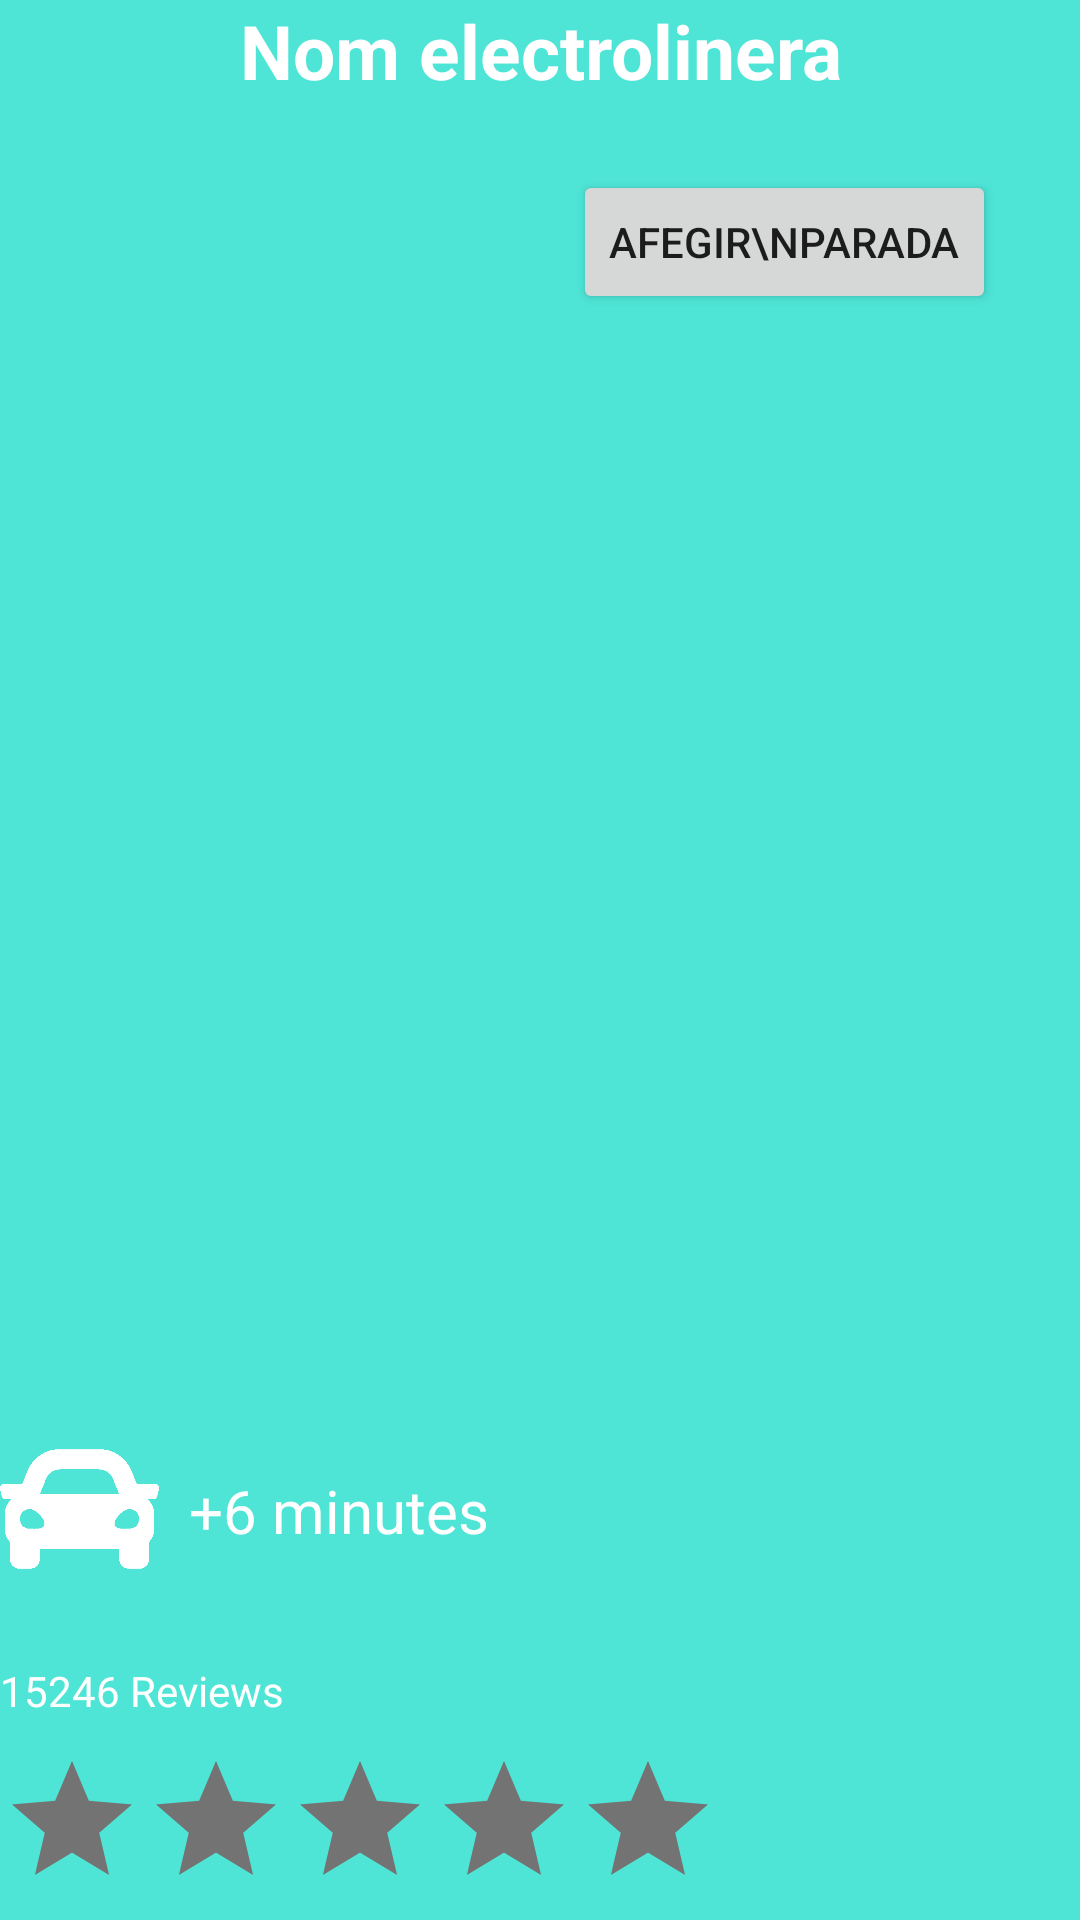

Named icons in this screenshot (1080x1920) and their centers, [x,y]:
car: [79,1509]
